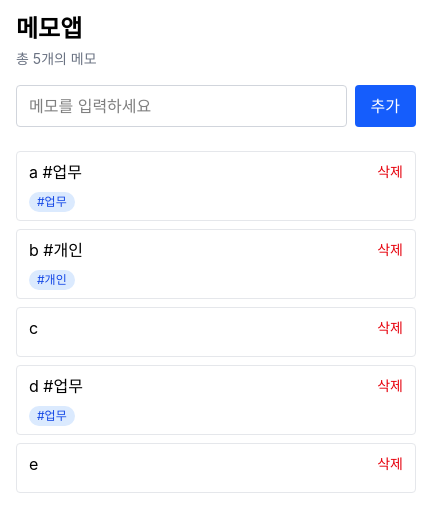
Test: App 태그 필터 › should show the filtered count when the filter is on
Click the button "#업무" below "a #업무" at point(52, 202), box [29,192,75,212]
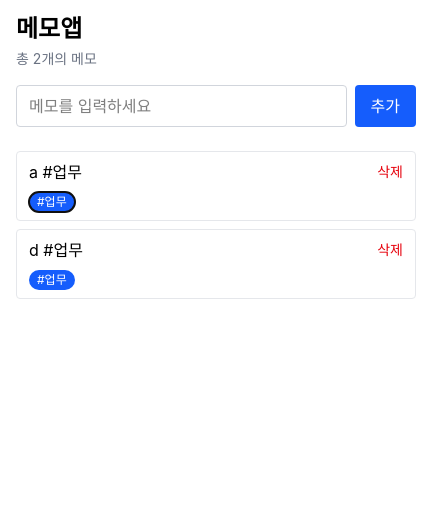
Check: the text "총 2개의 메모" is shown, box [16,50,97,67]
